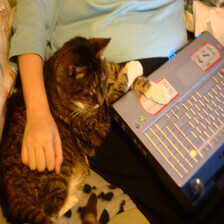laptop: (96, 28, 224, 217)
